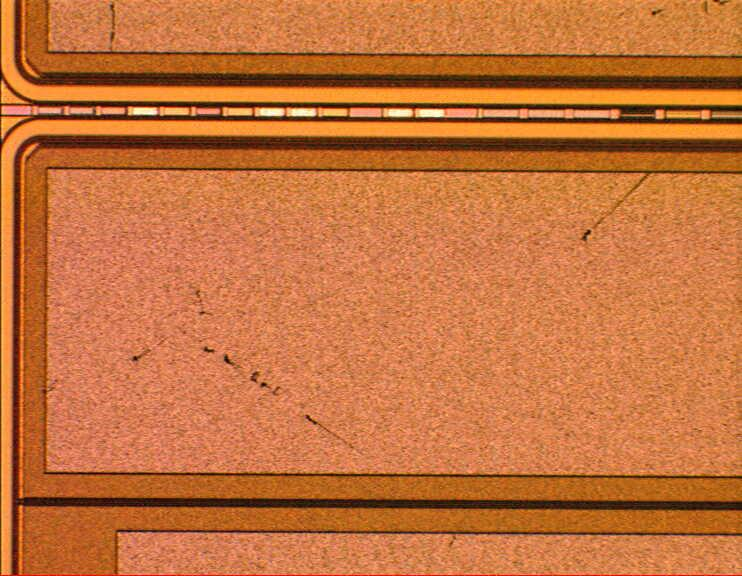SCRATCH: (34, 1, 742, 466)
